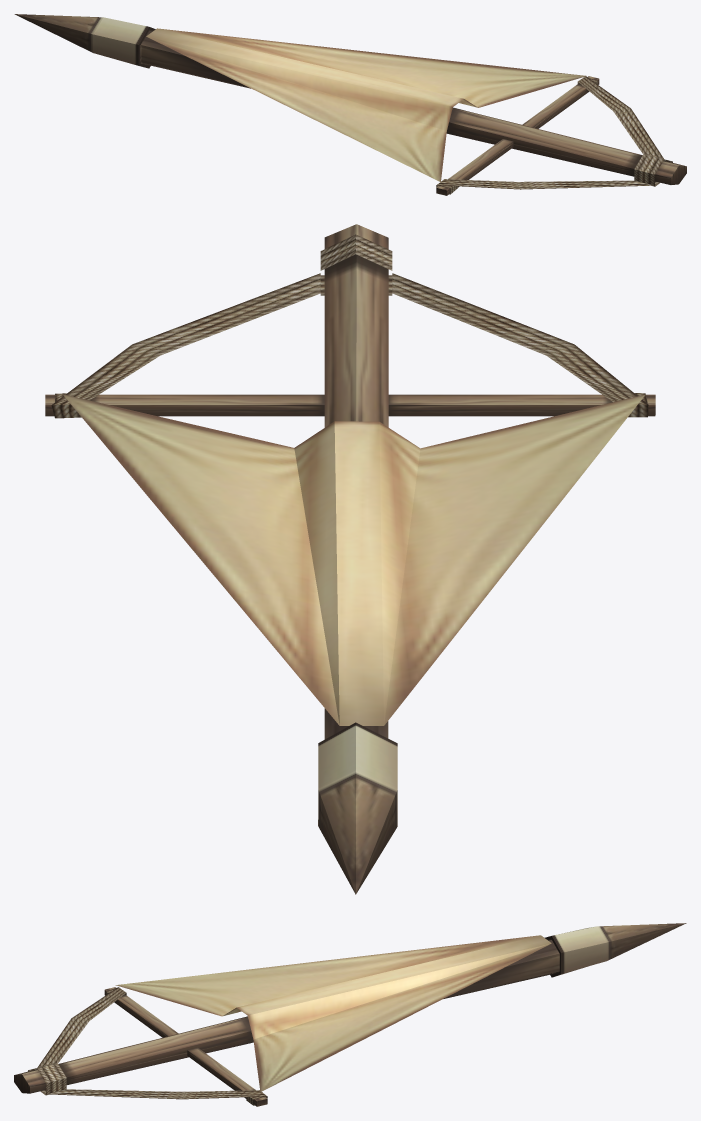
Rendered from Lty_feixingqi03.FBX.
3 renders of one model, top to bottom at view 1: azimuth 30°, elevation 25°; view 2: azimuth 150°, elevation 25°; view 3: azimuth 270°, elevation 25°, orthographic. The views are drawn at different scales.
Visible parts, largest first — view 1: Lty_feixingqi03; view 2: Lty_feixingqi03; view 3: Lty_feixingqi03.
Part boxes in pixels (<box>): Lty_feixingqi03: <box>14,14,686,195</box>; Lty_feixingqi03: <box>45,224,655,894</box>; Lty_feixingqi03: <box>14,923,686,1106</box>.
Bounding box in the file's own units: 148 × 233 × 16.01.
